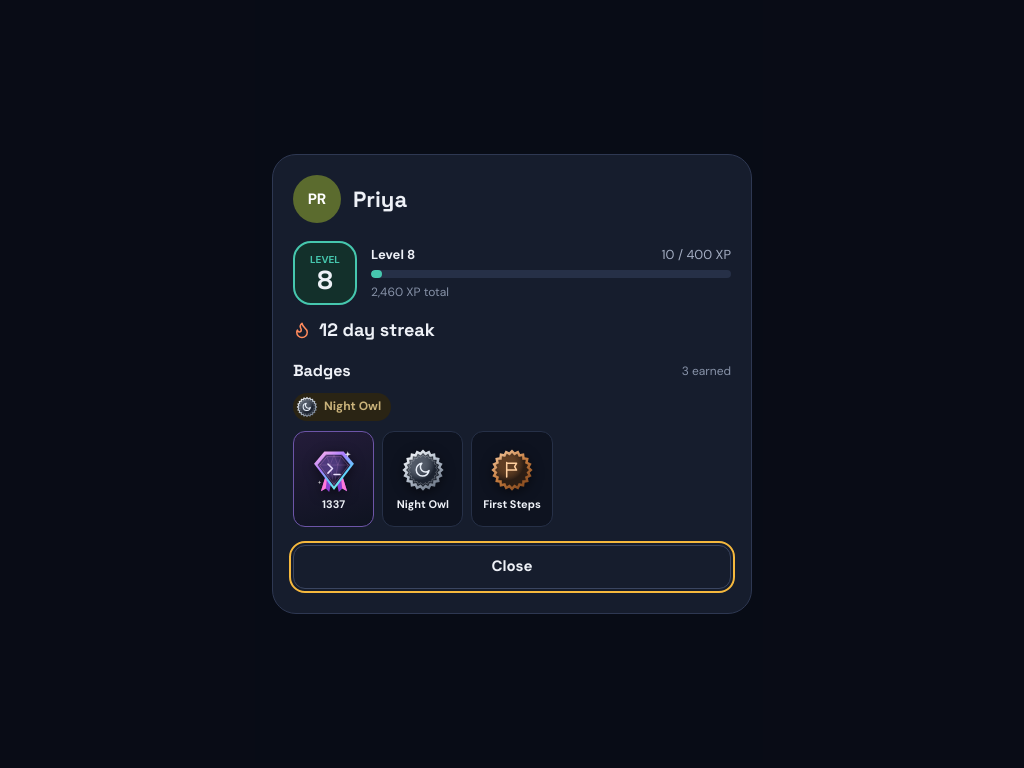
Test: MemberProfileSheet › keeps someone else's secret badge a secret, but explains normal ones
Click the button "1337" at (334, 479), box x1=293 y1=431 x2=374 y2=527
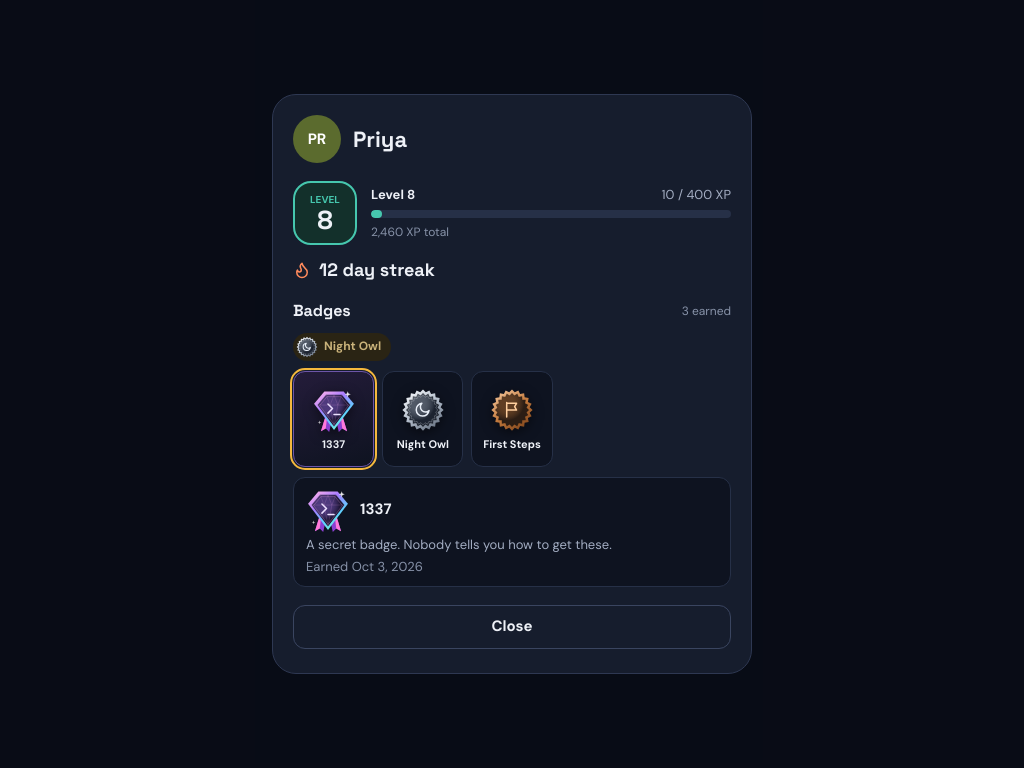
Expected: the element named "Badge details" shows "Nobody tells you how to get these", x1=306 y1=536 x2=612 y2=553
Click the button "Night Owl" at (423, 419), box x1=382 y1=371 x2=463 y2=467
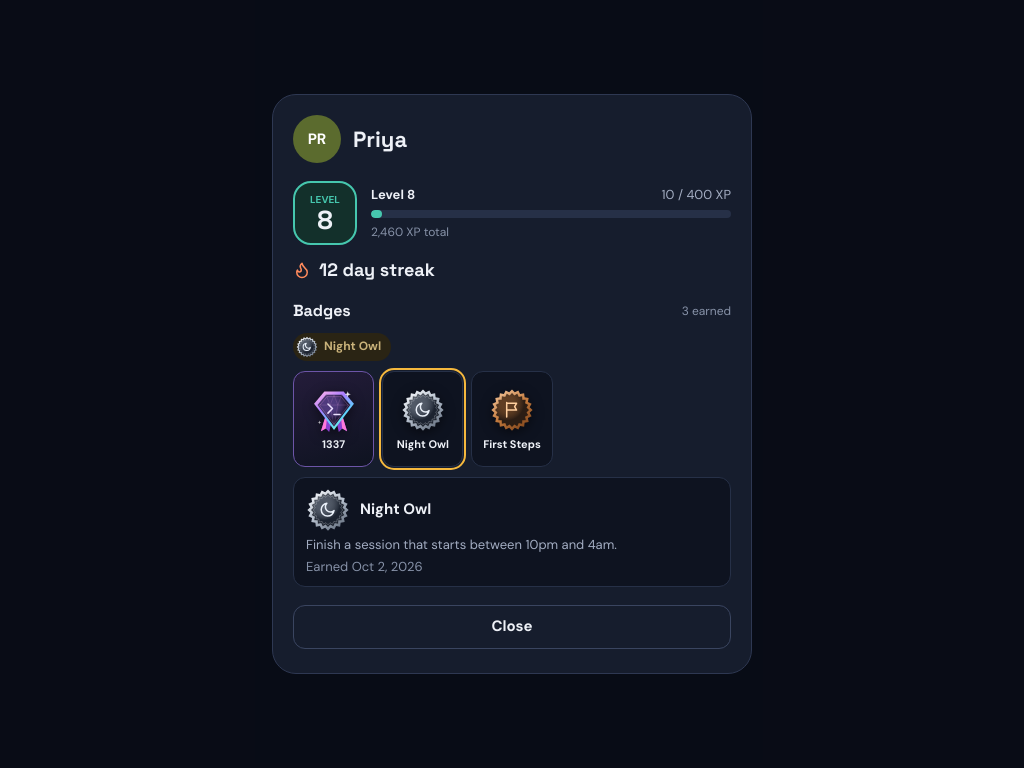
Expected: the element named "Badge details" no longer shows "Nobody tells you", x1=293 y1=477 x2=731 y2=587
